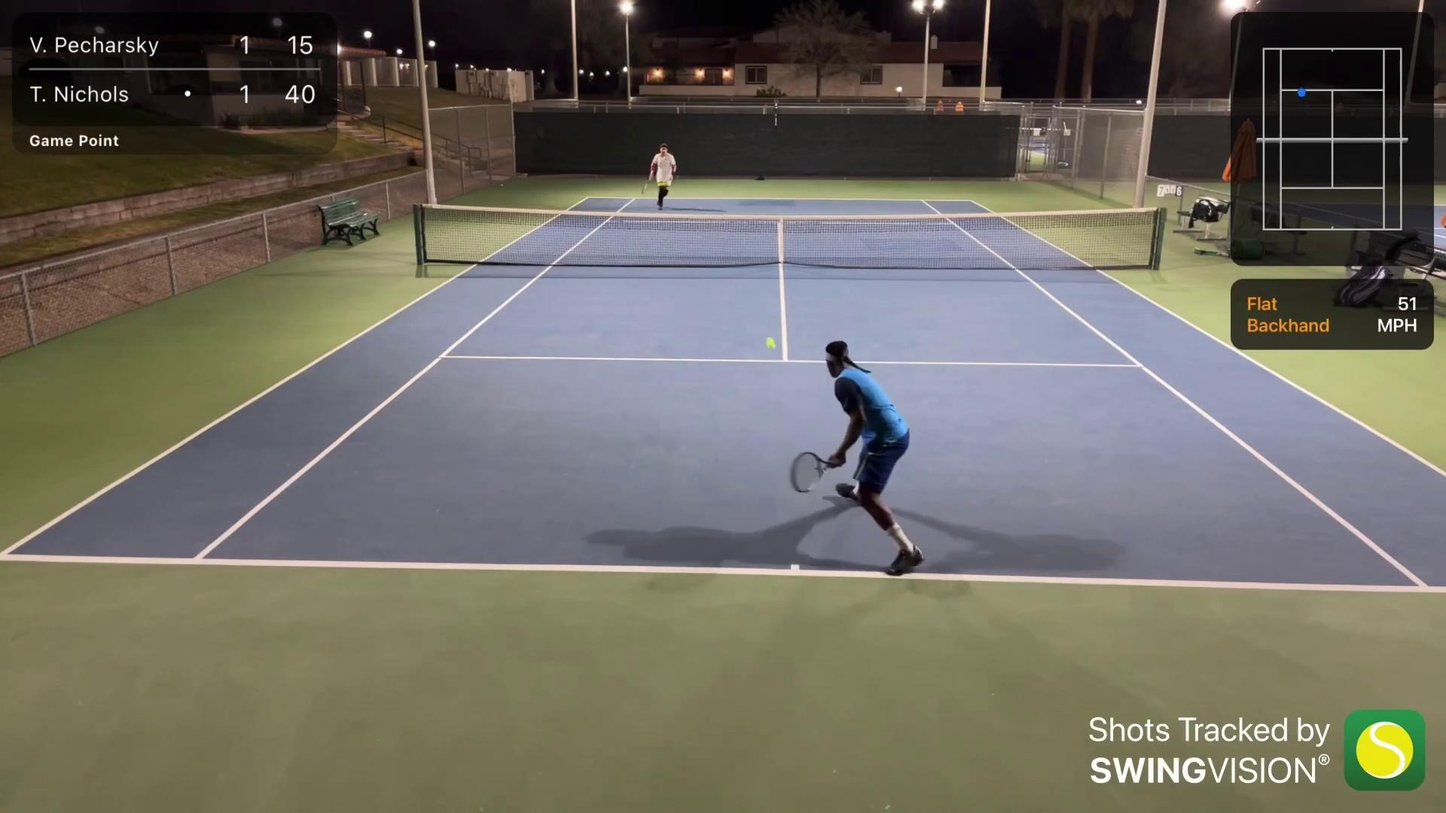ball: (762, 336, 778, 349)
